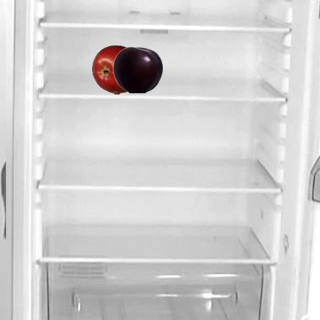Apple Braeburn: (91, 44, 141, 94)
Cherry Wax Black: (112, 44, 162, 94)
